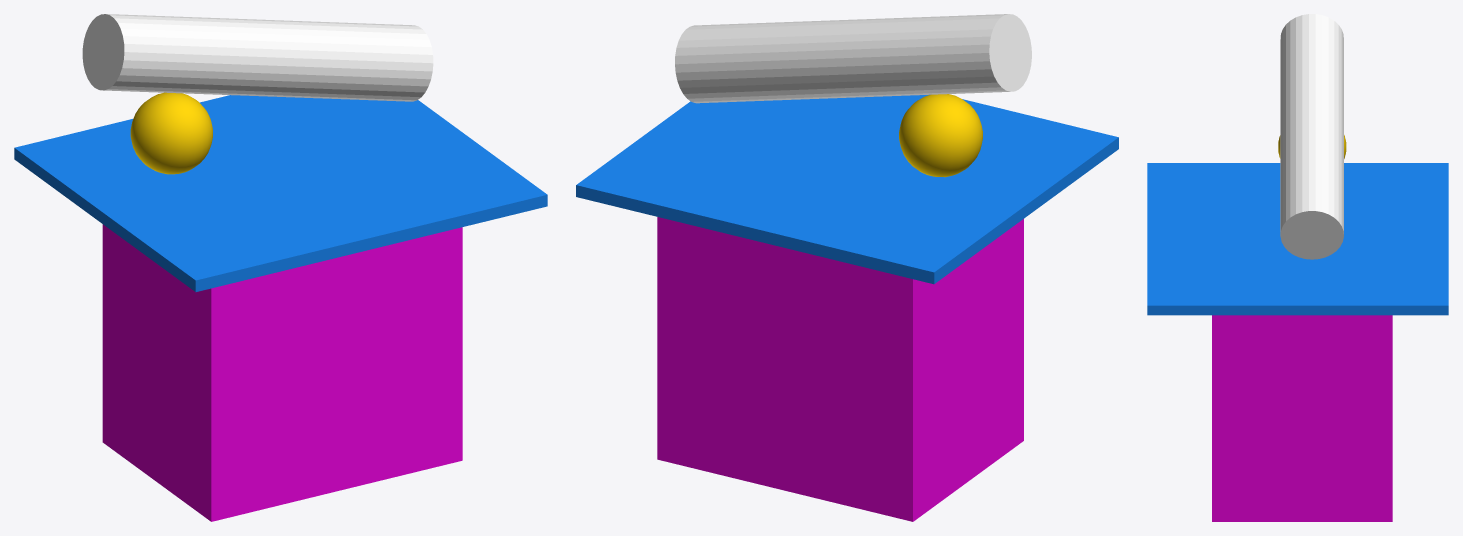
The model's file is Statue05.fbx.
3 renders of one model, left to right at view 1: azimuth 30°, elevation 25°; view 2: azimuth 150°, elevation 25°; view 3: azimuth 270°, elevation 25°, orthographic. The views are drawn at different scales.
Visible parts, largest first — view 1: pink Mesh (1), blue Mesh (1), green Mesh (1), yellow Mesh (1); view 2: pink Mesh (1), blue Mesh (1), green Mesh (1), yellow Mesh (1); view 3: blue Mesh (1), pink Mesh (1), green Mesh (1).
Part boxes in pixels (x1,y1,x2,y2): pink Mesh (1): [102, 224, 462, 521]; blue Mesh (1): [14, 95, 547, 291]; green Mesh (1): [82, 14, 433, 101]; yellow Mesh (1): [130, 92, 212, 174]; pink Mesh (1): [657, 217, 1023, 521]; blue Mesh (1): [576, 94, 1118, 284]; green Mesh (1): [675, 14, 1031, 103]; yellow Mesh (1): [899, 94, 982, 177]; blue Mesh (1): [1147, 163, 1448, 315]; pink Mesh (1): [1212, 315, 1392, 521]; green Mesh (1): [1280, 14, 1343, 259].
Size of the model in its own units: 4.22 by 5.37 by 3.75.
